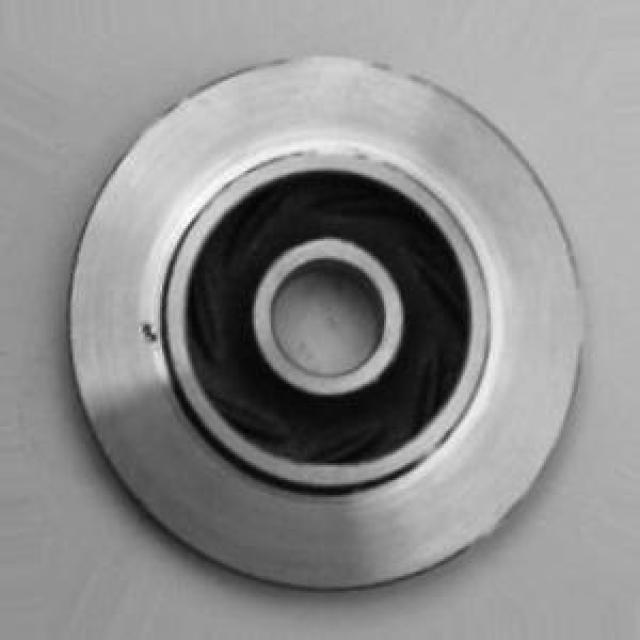Defect: (130, 314, 171, 356)
